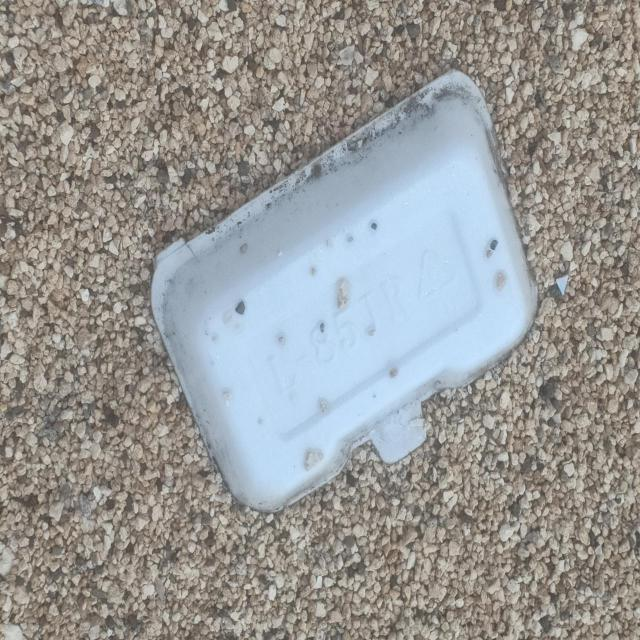styrofoam_waste: (149, 70, 541, 514)
